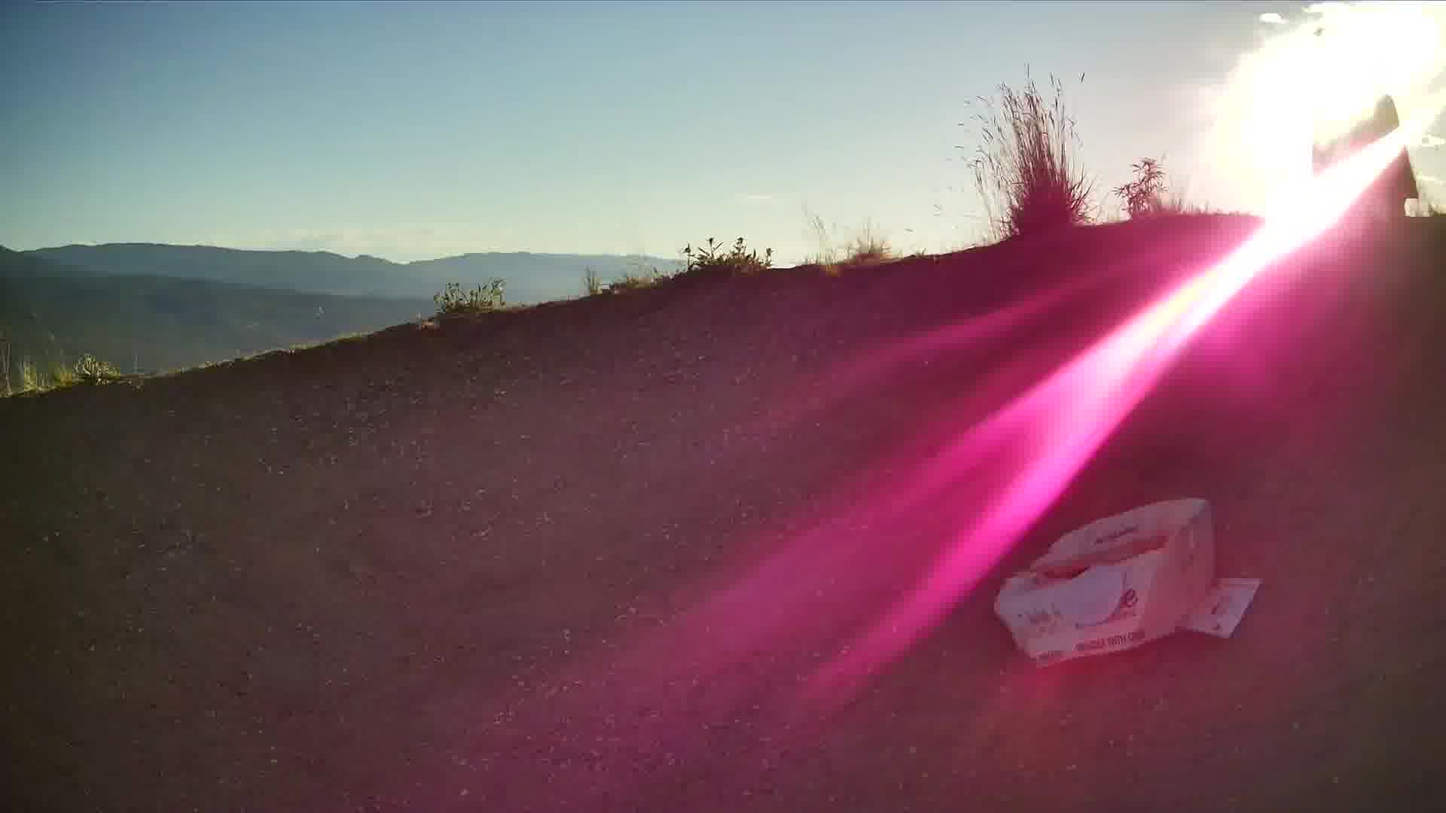Target: (1062, 560, 1122, 628)
